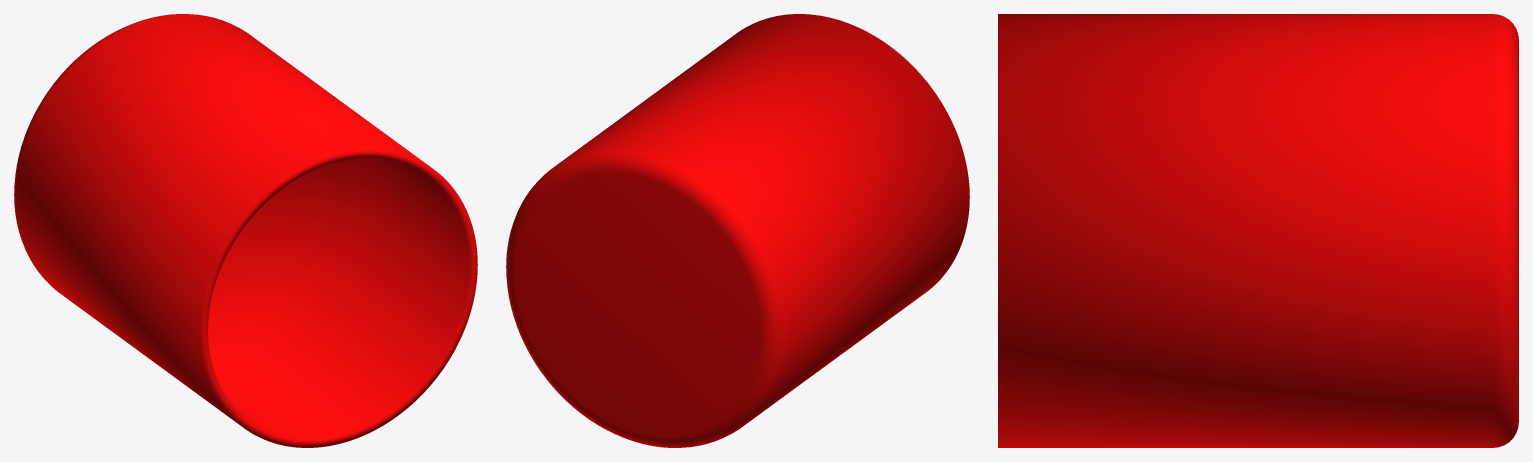
The model's file is cup_centered.obj.
3 views of the same model, side by side, from view 1: azimuth 30°, elevation 25°; view 2: azimuth 150°, elevation 25°; view 3: azimuth 270°, elevation 25° (orthographic). The views are drawn at different scales.
Size of the model in its own units: 0.1 by 0.1 by 0.12.
